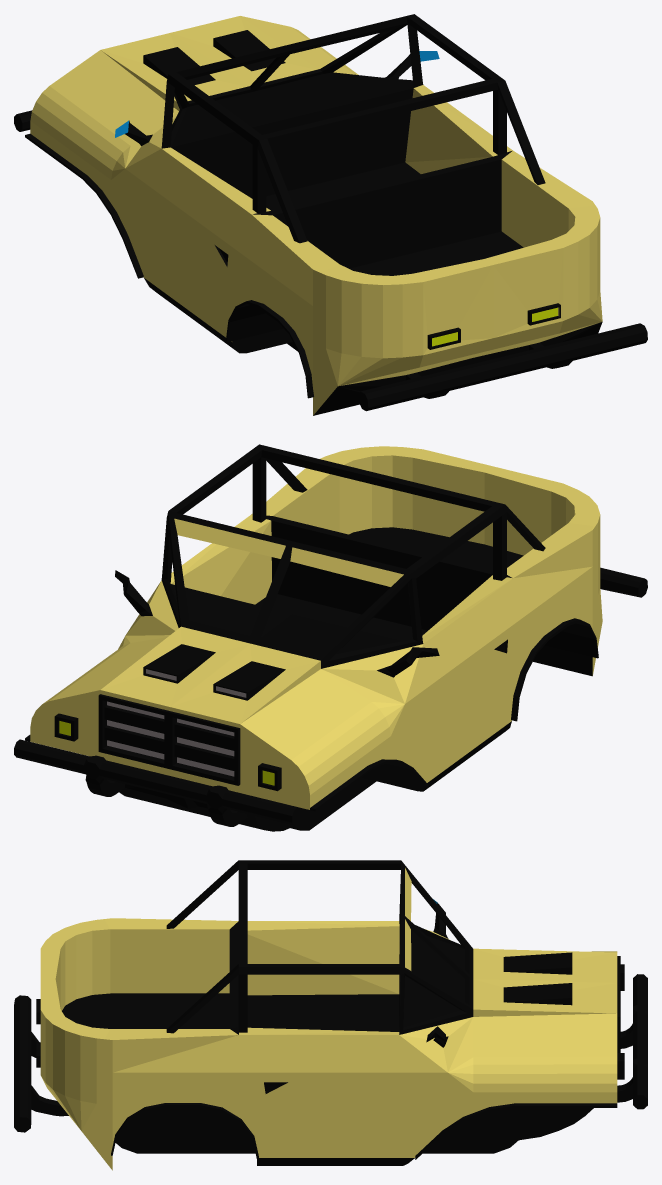
File: wrgsd.fbx
3 renders of one model, top to bottom at view 1: azimuth 30°, elevation 25°; view 2: azimuth 150°, elevation 25°; view 3: azimuth 270°, elevation 25°, orthographic. The views are drawn at different scales.
Visible parts, largest first — view 1: Cube; view 2: Cube; view 3: Cube.
Part boxes in pixels (x1,y1,x2,y2): Cube: (14, 14, 647, 415); Cube: (14, 444, 647, 831); Cube: (14, 860, 647, 1170).
Size of the model in its own units: 465 by 321 by 879.
